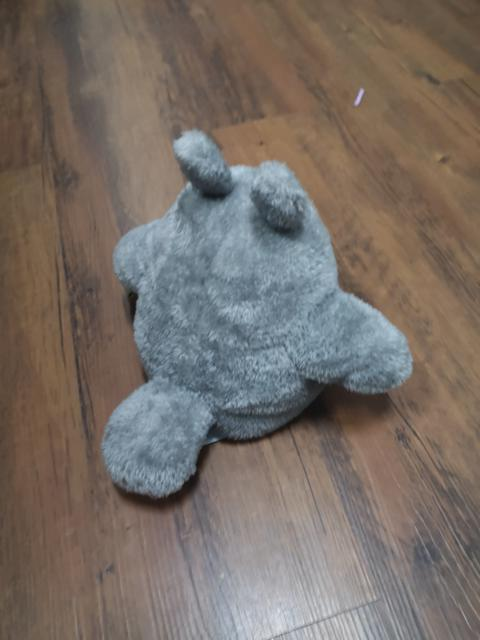totoro: (96, 125, 416, 510)
